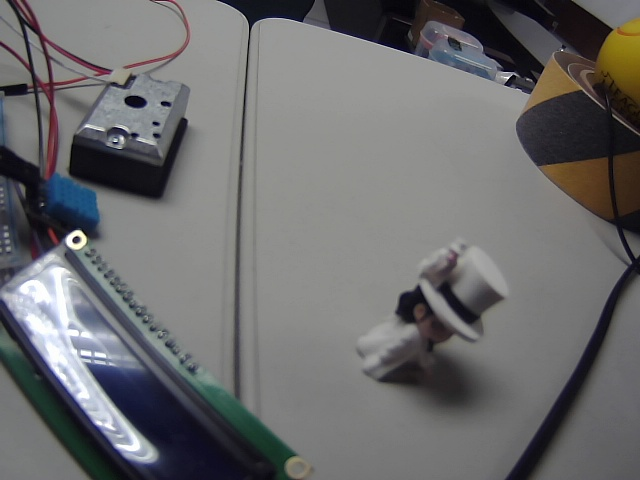lucci: (339, 230, 527, 396)
